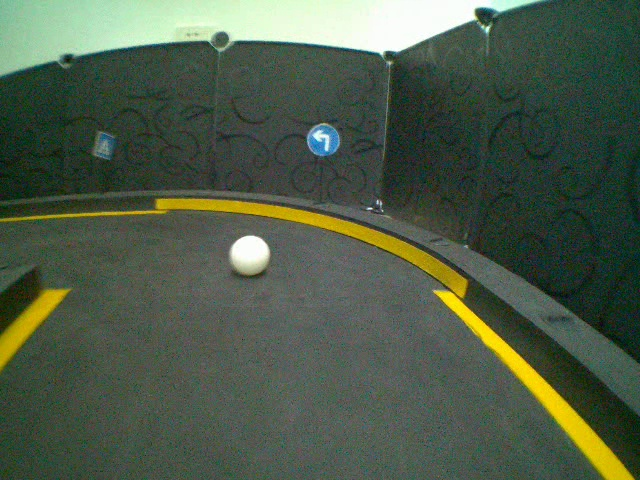ball: (229, 234, 271, 275)
